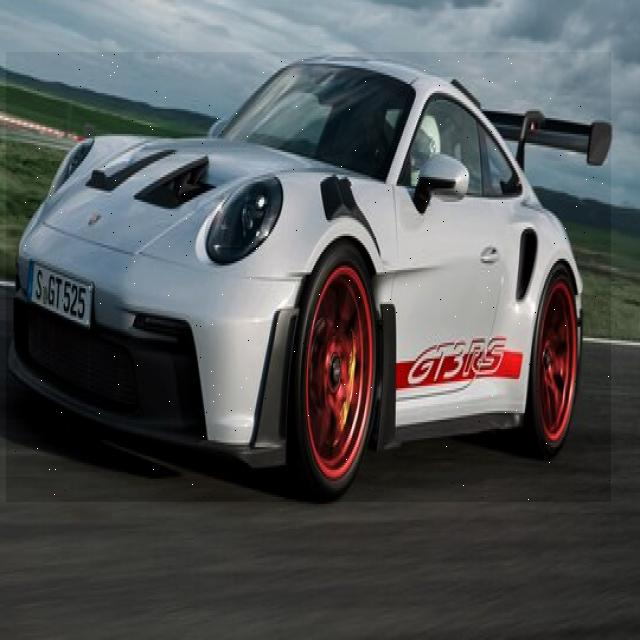car: (6, 52, 611, 502)
